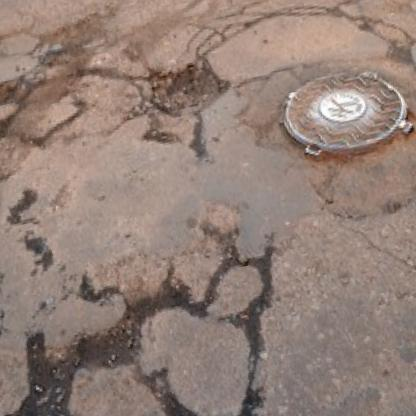pothole: (142, 48, 237, 124), (0, 76, 22, 128)
